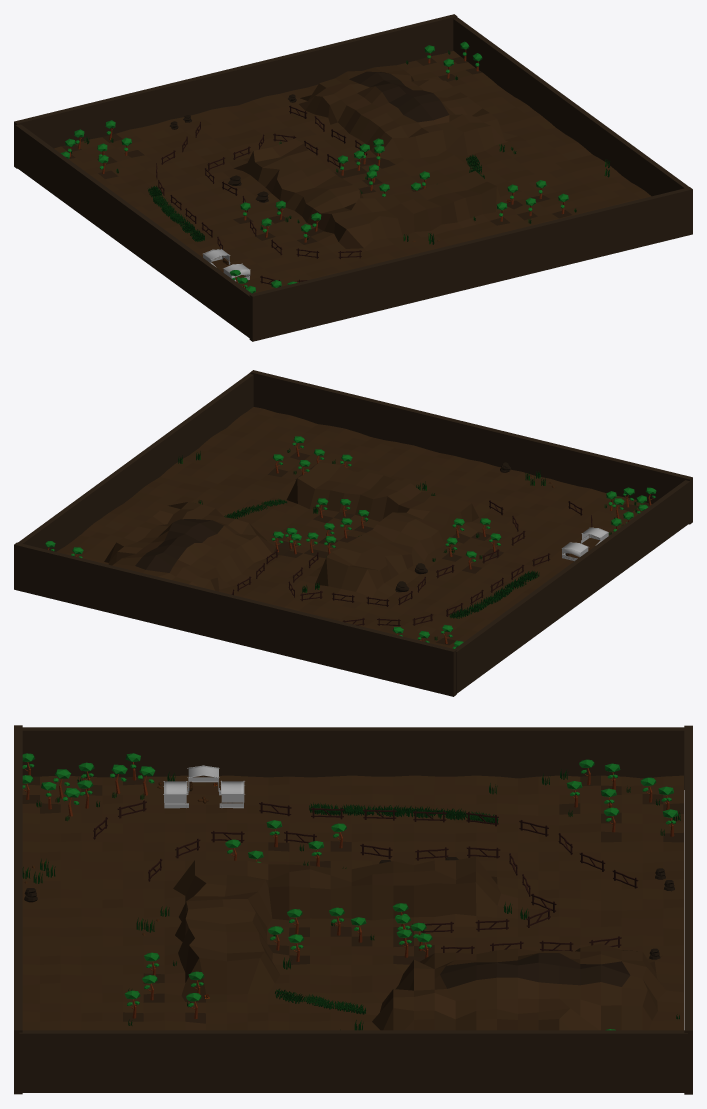
Rendered from Land_of_Moriah.obj.
3 renders of one model, top to bottom at view 1: azimuth 30°, elevation 25°; view 2: azimuth 150°, elevation 25°; view 3: azimuth 270°, elevation 25°, orthographic. The views are drawn at different scales.
Parts seen in each view (by area): view 1: Plane_Plane_Material.001, Cube_145.003_Cube.742_Material_000.001, Cube_145.002_Cube.741_Material_000.001, Cube_145_Cube.010_Material_000.001, Cube_145.001_Cube.000_Material_000.001, Plane_Plane_Material.005, Plane_Plane_mountain_top; view 2: Plane_Plane_Material.001, Cube_145.002_Cube.741_Material_000.001, Cube_145.003_Cube.742_Material_000.001, Cube_145_Cube.010_Material_000.001, Cube_145.001_Cube.000_Material_000.001, Plane_Plane_mountain_top, Plane_Plane_Material.005; view 3: Plane_Plane_Material.001, Cube_145.001_Cube.000_Material_000.001, Cube_145_Cube.010_Material_000.001, Plane_Plane_Material.005, Plane_Plane_mountain_top, Cube_145.003_Cube.742_Material_000.001, Cube_145.002_Cube.741_Material_000.001.
Part boxes in pixels (bbox=[...]): Plane_Plane_Material.001: bbox=[54, 51, 651, 293]; Cube_145.003_Cube.742_Material_000.001: bbox=[249, 187, 692, 341]; Cube_145.002_Cube.741_Material_000.001: bbox=[14, 14, 457, 168]; Cube_145_Cube.010_Material_000.001: bbox=[15, 124, 251, 338]; Cube_145.001_Cube.000_Material_000.001: bbox=[453, 17, 689, 196]; Plane_Plane_Material.005: bbox=[61, 56, 571, 244]; Plane_Plane_mountain_top: bbox=[349, 71, 449, 122]; Plane_Plane_Material.001: bbox=[56, 407, 644, 648]; Cube_145.002_Cube.741_Material_000.001: bbox=[14, 542, 456, 696]; Cube_145.003_Cube.742_Material_000.001: bbox=[250, 370, 692, 524]; Cube_145_Cube.010_Material_000.001: bbox=[455, 480, 691, 693]; Cube_145.001_Cube.000_Material_000.001: bbox=[18, 373, 253, 551]; Plane_Plane_mountain_top: bbox=[135, 519, 223, 572]; Plane_Plane_Material.005: bbox=[268, 452, 651, 645]; Plane_Plane_Material.001: bbox=[22, 775, 683, 1030]; Cube_145.001_Cube.000_Material_000.001: bbox=[19, 1030, 687, 1092]; Cube_145_Cube.010_Material_000.001: bbox=[22, 727, 684, 789]; Plane_Plane_Material.005: bbox=[22, 775, 683, 1023]; Plane_Plane_mountain_top: bbox=[440, 953, 630, 988]; Cube_145.003_Cube.742_Material_000.001: bbox=[14, 725, 22, 1094]; Cube_145.002_Cube.741_Material_000.001: bbox=[684, 725, 692, 1094].
Size of the model in its own units: 374 by 36.41 by 350.
